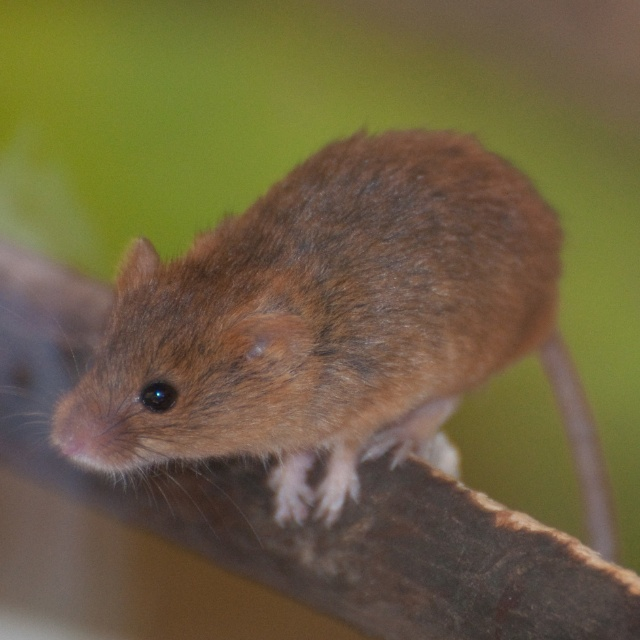Mouse: (7, 128, 622, 547)
